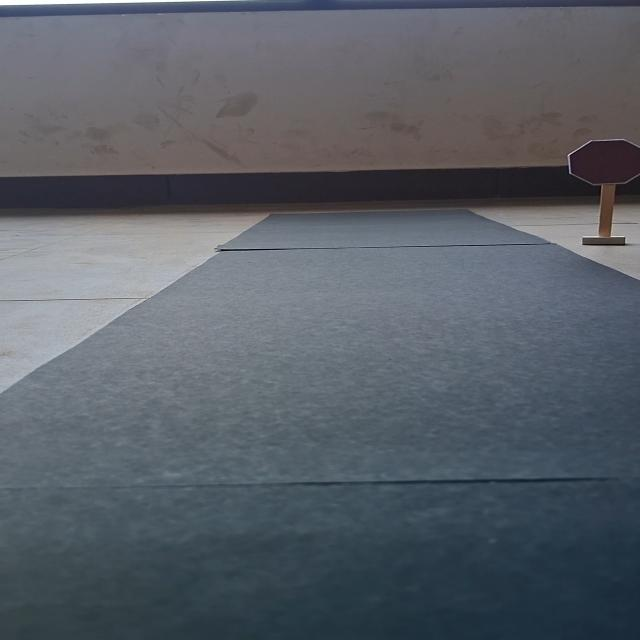Stop: (566, 139, 640, 186)
